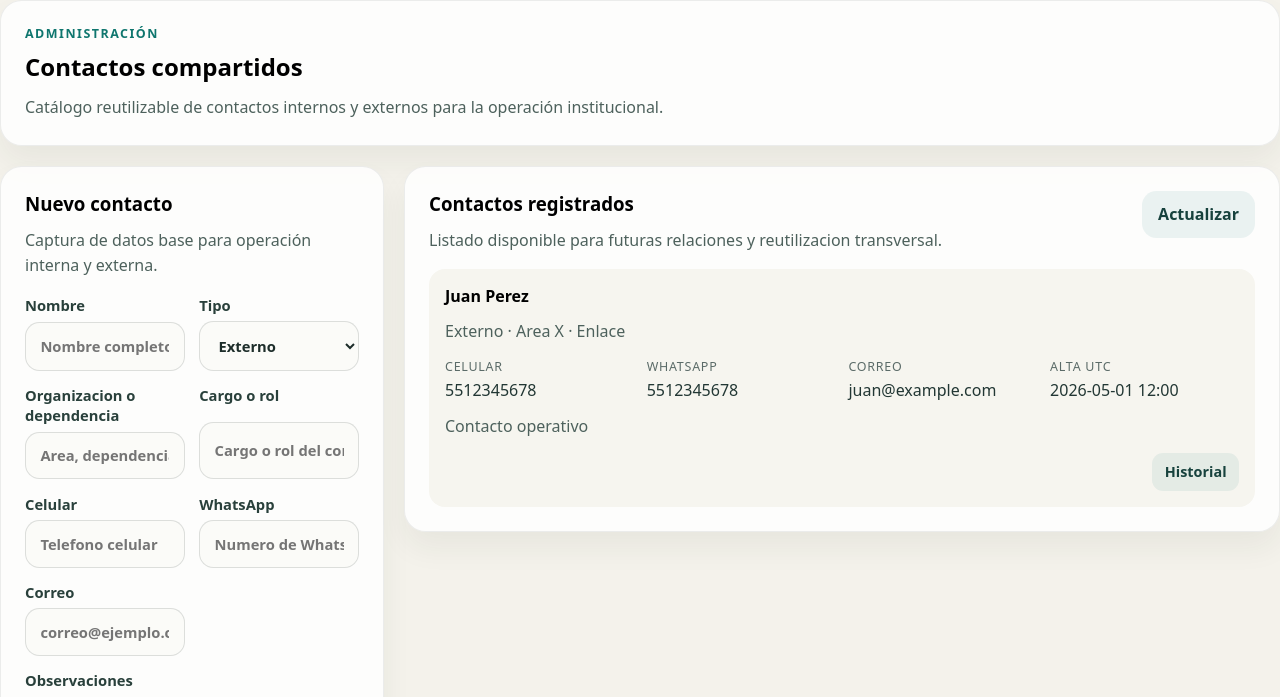
Test: ContactsPageComponent › shows an error state when history loading fails
Click the button "Historial" at point(1196, 472), box x1=1152 y1=453 x2=1239 y2=491
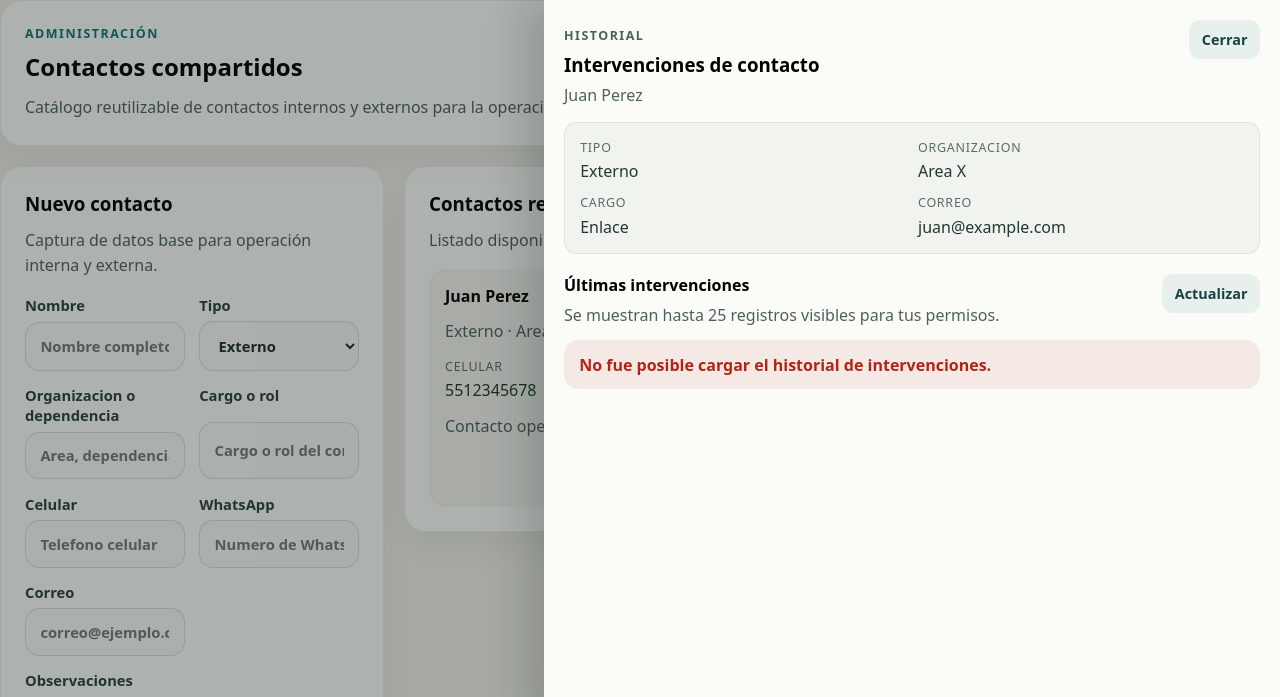
Now the text "No fue posible cargar el historial de intervenciones." is shown, box x1=564 y1=340 x2=1260 y2=389
